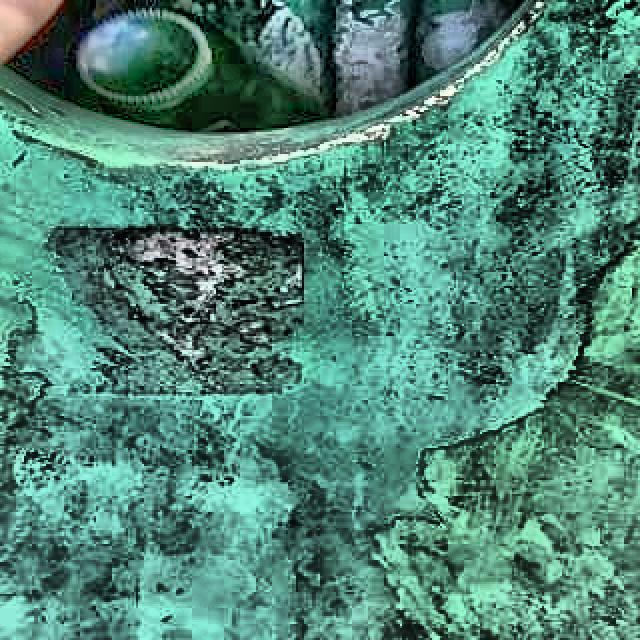glass: (75, 9, 328, 131)
